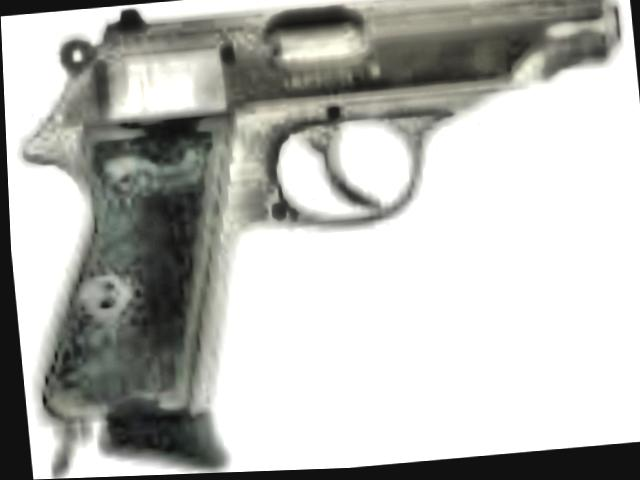pistol: (0, 0, 640, 476)
